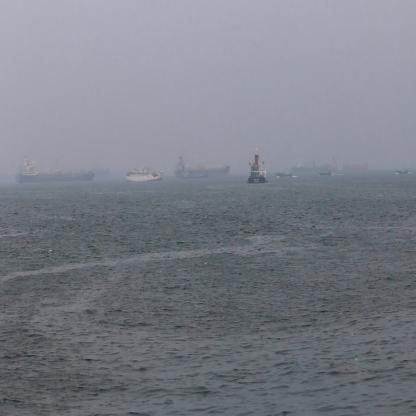Container Ship: (17, 155, 95, 182), (174, 157, 231, 180), (248, 139, 268, 185), (126, 165, 166, 183), (291, 160, 336, 172)
